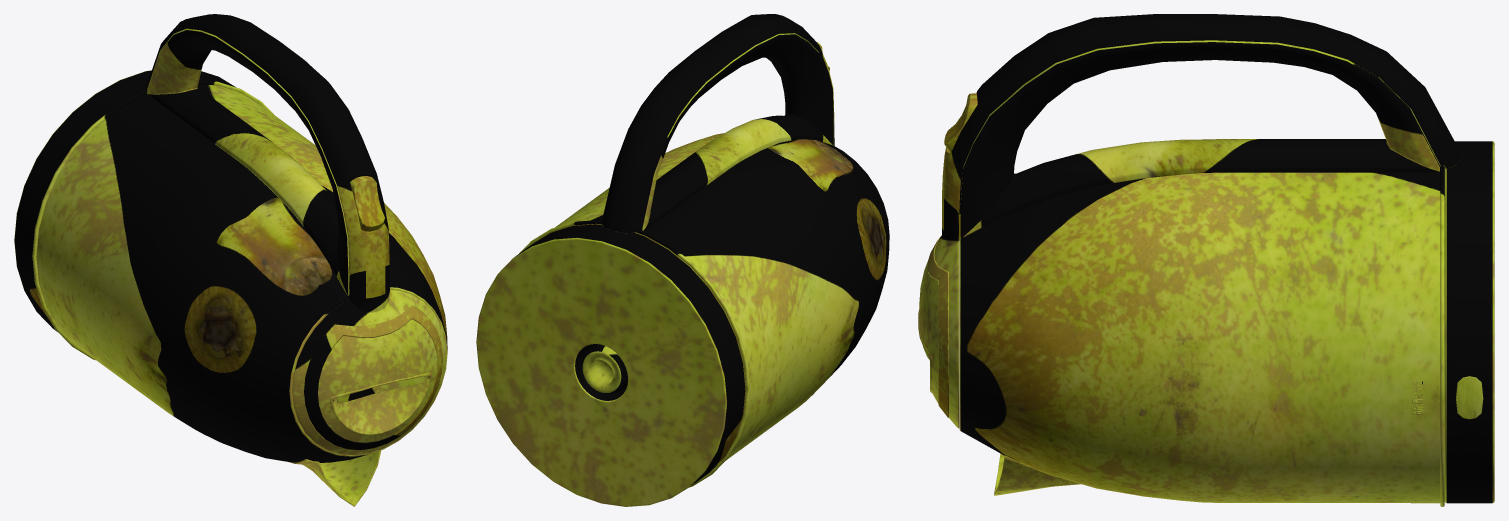
The picture shows the model from 3 angles, left to right: view 1: azimuth 30°, elevation 25°; view 2: azimuth 150°, elevation 25°; view 3: azimuth 270°, elevation 25°; orthographic projection. The views are drawn at different scales.
Size of the model in its own units: 0.6423 by 0.9143 by 1.
